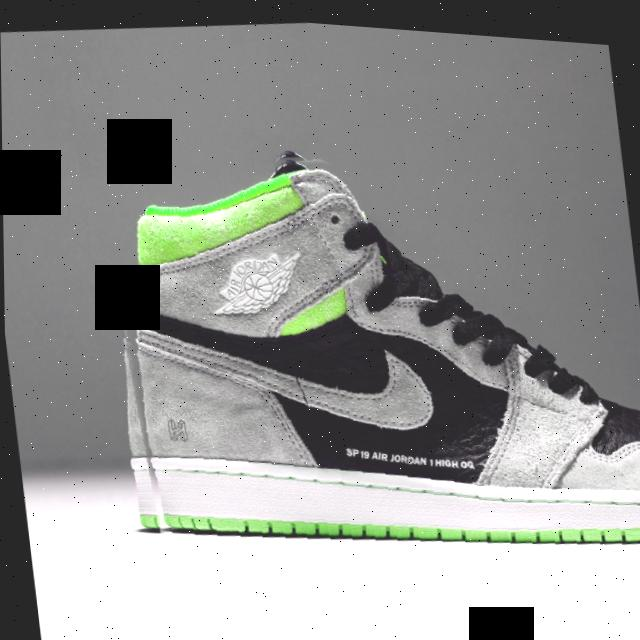shoe: (88, 96, 640, 592)
